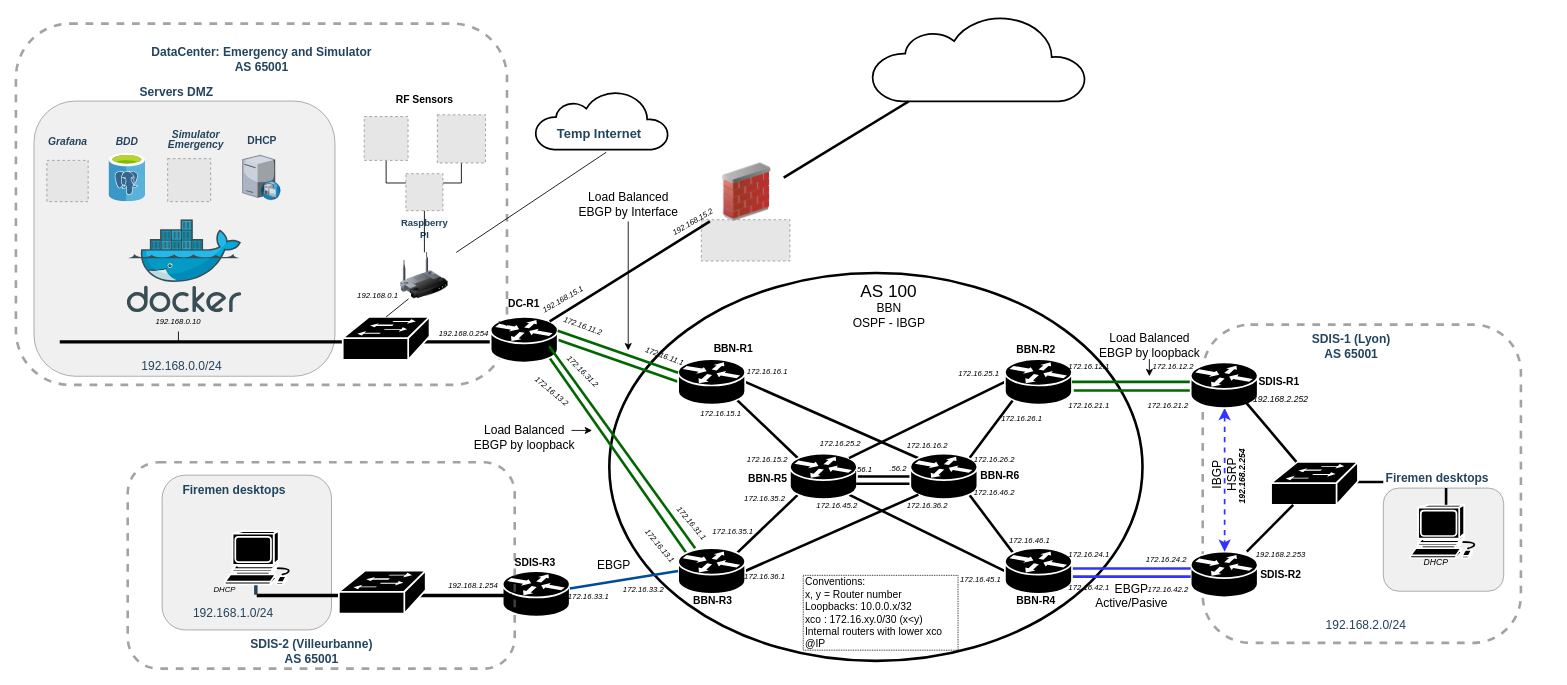
Image size: 1567x685. Some labels were removed from this diagram. Grey dashed boxes stand in for pictures. The centre of each missing label's shape, as x and y in pixels:
"4G Routeur" belongs at [424,275].
"Internet" belongs at [979,58].
